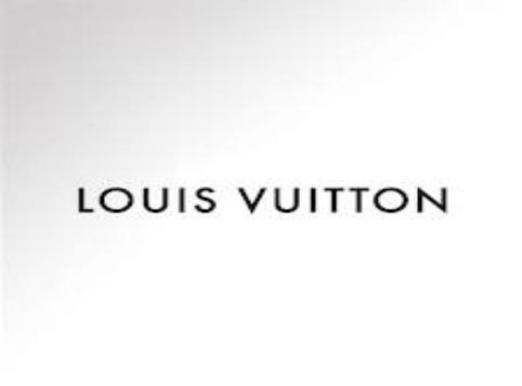LOUIS-VUITTON: (61, 172, 461, 236)
